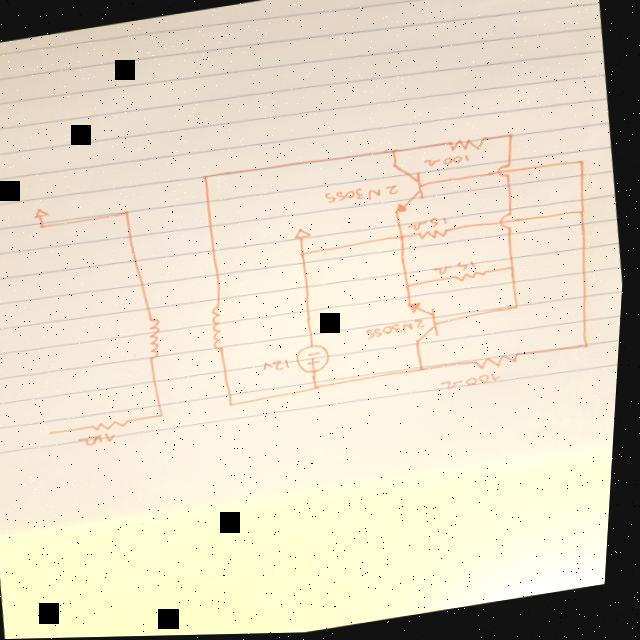crossover: (498, 212, 517, 234), (496, 163, 516, 181)
ground: (292, 226, 316, 242), (33, 206, 52, 218)
junction: (122, 205, 136, 219), (38, 219, 51, 232), (505, 131, 519, 143), (200, 173, 216, 183), (577, 159, 590, 171), (230, 399, 243, 410), (419, 365, 433, 375), (389, 146, 401, 157), (299, 250, 312, 260), (583, 343, 596, 353), (404, 282, 417, 291), (509, 265, 521, 274), (578, 211, 590, 220), (159, 410, 170, 419), (514, 304, 525, 313), (398, 234, 410, 242), (315, 383, 326, 391)
resistor: (442, 133, 493, 159), (472, 351, 525, 374), (92, 415, 135, 435), (415, 225, 453, 245), (452, 270, 493, 286)
source: (295, 342, 338, 377)
terminal: (50, 428, 63, 438)
text: (322, 179, 402, 208), (367, 319, 429, 340), (444, 372, 506, 393), (424, 151, 474, 170), (78, 429, 123, 449), (432, 261, 480, 277), (409, 216, 453, 233), (265, 358, 295, 374)
transformer: (146, 306, 233, 363)
transistor: (387, 161, 432, 217), (406, 298, 446, 343)
